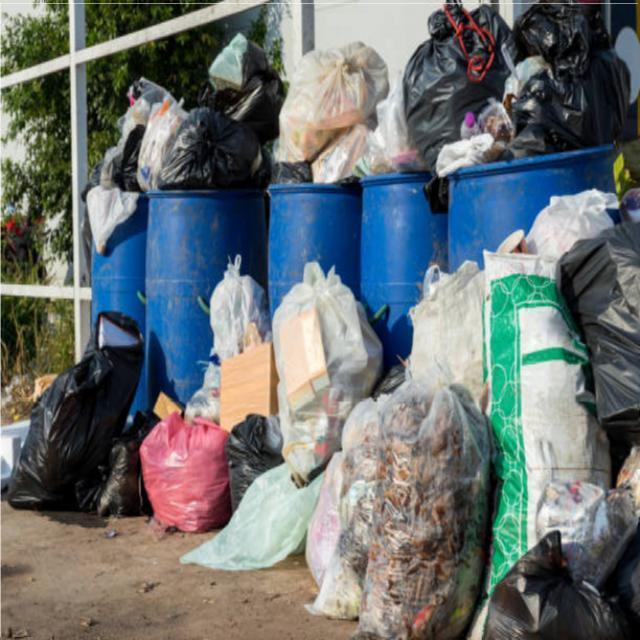Trashbag: (3, 342, 137, 524), (469, 540, 639, 640), (512, 0, 611, 156), (555, 225, 640, 401), (394, 21, 498, 152), (150, 109, 268, 187)
